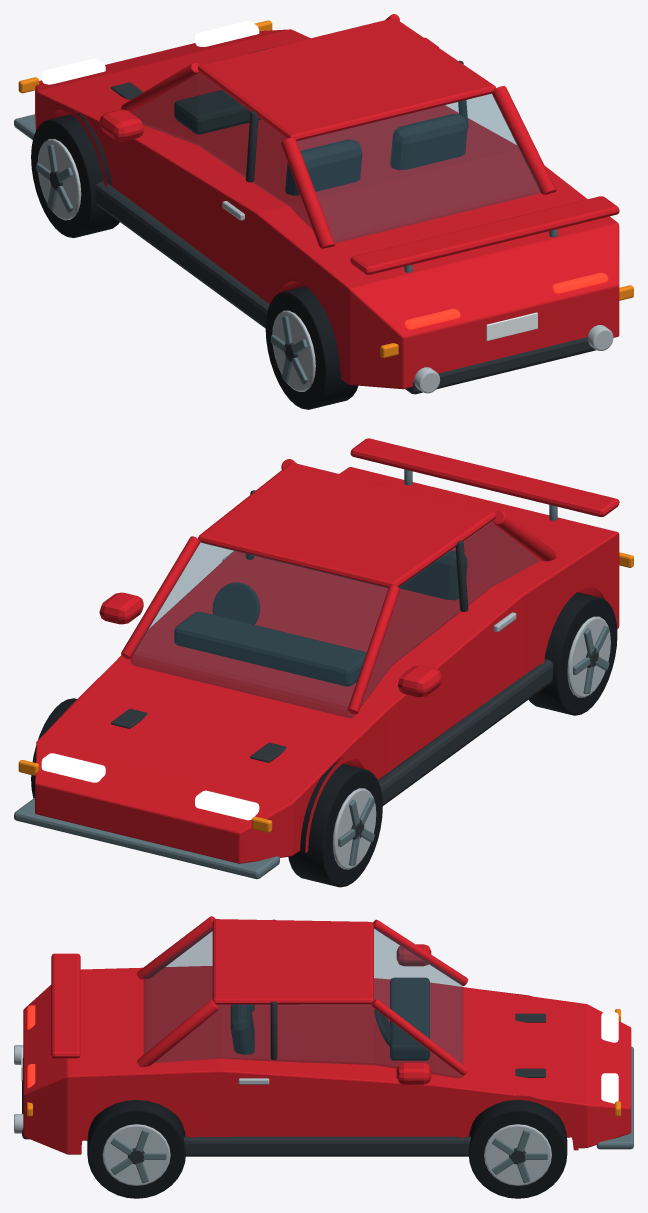
The model's file is car.glb.
3 views of the same model, one above another, from view 1: azimuth 30°, elevation 25°; view 2: azimuth 150°, elevation 25°; view 3: azimuth 270°, elevation 25° (orthographic). The views are drawn at different scales.
Visible parts, largest first — view 1: Car_Body.001, Car_Glass.001, Car_Roof.001, Car_Rear_Spoiler.001, Car_Side_Skirt_1.001, Car_Wheel_FL.001, Car_Wheel_RL.001, Car_Seatback_-1.001, Car_Seatback_1.001, Car_Rear_Diffuser.001, Car_Dashboard.001, Car_C_Pillar_-1.001 (+13 smaller); view 2: Car_Body.001, Car_Glass.001, Car_Roof.001, Car_Dashboard.001, Car_Rear_Spoiler.001, Car_Wheel_FL.001, Car_Side_Skirt_1.001, Car_Wheel_RL.001, Car_Front_Splitter.001, Car_Wheel_FL_Rim_1.001, Car_Wheel_RL_Rim_1.001, Car_Seatback_1.001 (+10 smaller); view 3: Car_Body.001, Car_Glass.001, Car_Roof.001, Car_Side_Skirt_-1.001, Car_Wheel_FR.001, Car_Wheel_RR.001, Car_Rear_Spoiler.001, Car_Dashboard.001, Car_Wheel_FR_Rim_-1.001, Car_Wheel_RR_Rim_-1.001, Car_C_Pillar_-1.001, Car_C_Pillar_1.001 (+11 smaller).
Part boxes in pixels (box(x1,y1,x2,y2)): Car_Body.001: box(35, 29, 619, 389); Car_Glass.001: box(132, 72, 540, 242); Car_Roof.001: box(197, 18, 495, 140); Car_Rear_Spoiler.001: box(350, 196, 619, 274); Car_Side_Skirt_1.001: box(95, 181, 269, 328); Car_Wheel_FL.001: box(31, 113, 119, 237); Car_Wheel_RL.001: box(265, 286, 358, 409); Car_Seatback_-1.001: box(390, 114, 467, 169); Car_Seatback_1.001: box(285, 139, 362, 195); Car_Rear_Diffuser.001: box(405, 337, 595, 394); Car_Dashboard.001: box(174, 90, 260, 134); Car_C_Pillar_-1.001: box(492, 86, 556, 194); Car_Body.001: box(35, 467, 619, 863); Car_Glass.001: box(130, 520, 540, 717); Car_Roof.001: box(198, 463, 496, 587); Car_Dashboard.001: box(174, 611, 366, 686); Car_Rear_Spoiler.001: box(350, 438, 619, 517); Car_Wheel_FL.001: box(288, 762, 382, 887); Car_Side_Skirt_1.001: box(378, 659, 553, 805); Car_Wheel_RL.001: box(528, 592, 617, 715); Car_Front_Splitter.001: box(14, 798, 279, 879); Car_Wheel_FL_Rim_1.001: box(332, 788, 376, 869); Car_Wheel_RL_Rim_1.001: box(567, 616, 610, 697); Car_Seatback_1.001: box(399, 550, 467, 600); Car_Body.001: box(23, 966, 631, 1154); Car_Glass.001: box(144, 927, 462, 1078); Car_Roof.001: box(212, 919, 373, 1004); Car_Side_Skirt_-1.001: box(183, 1136, 470, 1156); Car_Wheel_FR.001: box(468, 1100, 567, 1198); Car_Wheel_RR.001: box(87, 1100, 185, 1198); Car_Rear_Spoiler.001: box(51, 953, 80, 1058); Car_Dashboard.001: box(390, 977, 429, 1060); Car_Wheel_FR_Rim_-1.001: box(484, 1124, 551, 1185); Car_Wheel_RR_Rim_-1.001: box(102, 1124, 170, 1185); Car_C_Pillar_-1.001: box(137, 1000, 218, 1066); Car_C_Pillar_1.001: box(137, 916, 215, 979).
Bounding box in the file's own units: 2.31 × 1.51 × 4.65.
